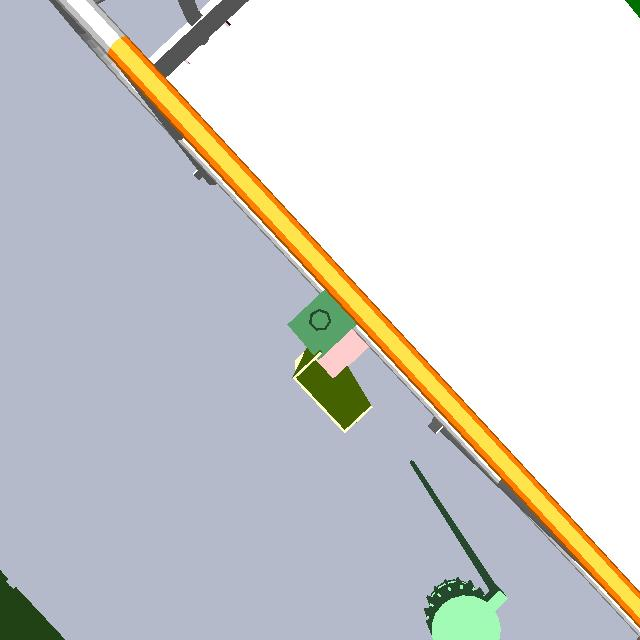Poste: (308, 309, 335, 336)
Soporte: (282, 321, 382, 432)
